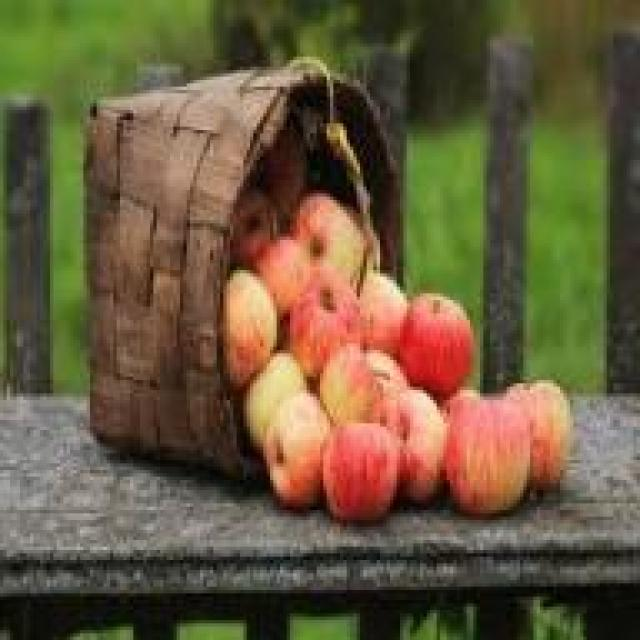apple: (447, 393, 530, 517), (380, 386, 447, 506), (397, 287, 470, 393), (323, 423, 400, 517), (290, 280, 363, 373), (267, 397, 330, 503), (290, 190, 363, 280), (316, 343, 386, 430), (517, 373, 570, 487), (214, 270, 274, 370), (246, 337, 306, 430), (350, 270, 407, 357)
